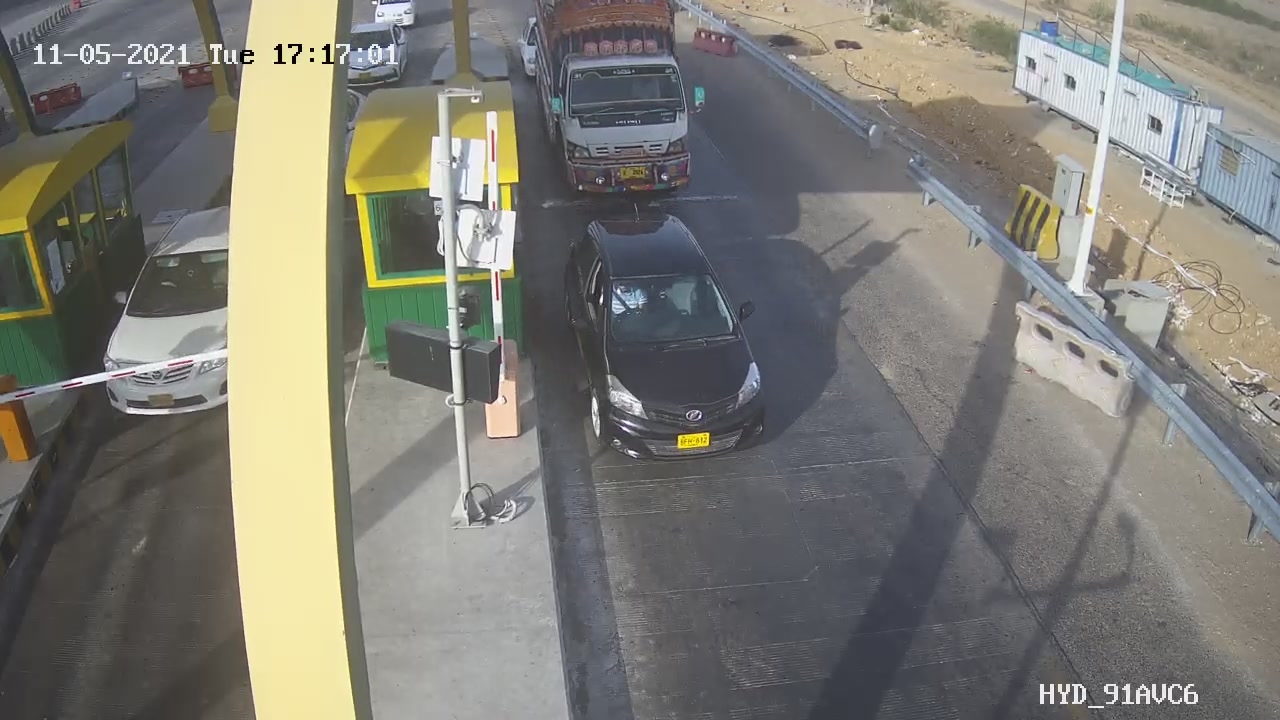F1: (550, 203, 795, 483)
